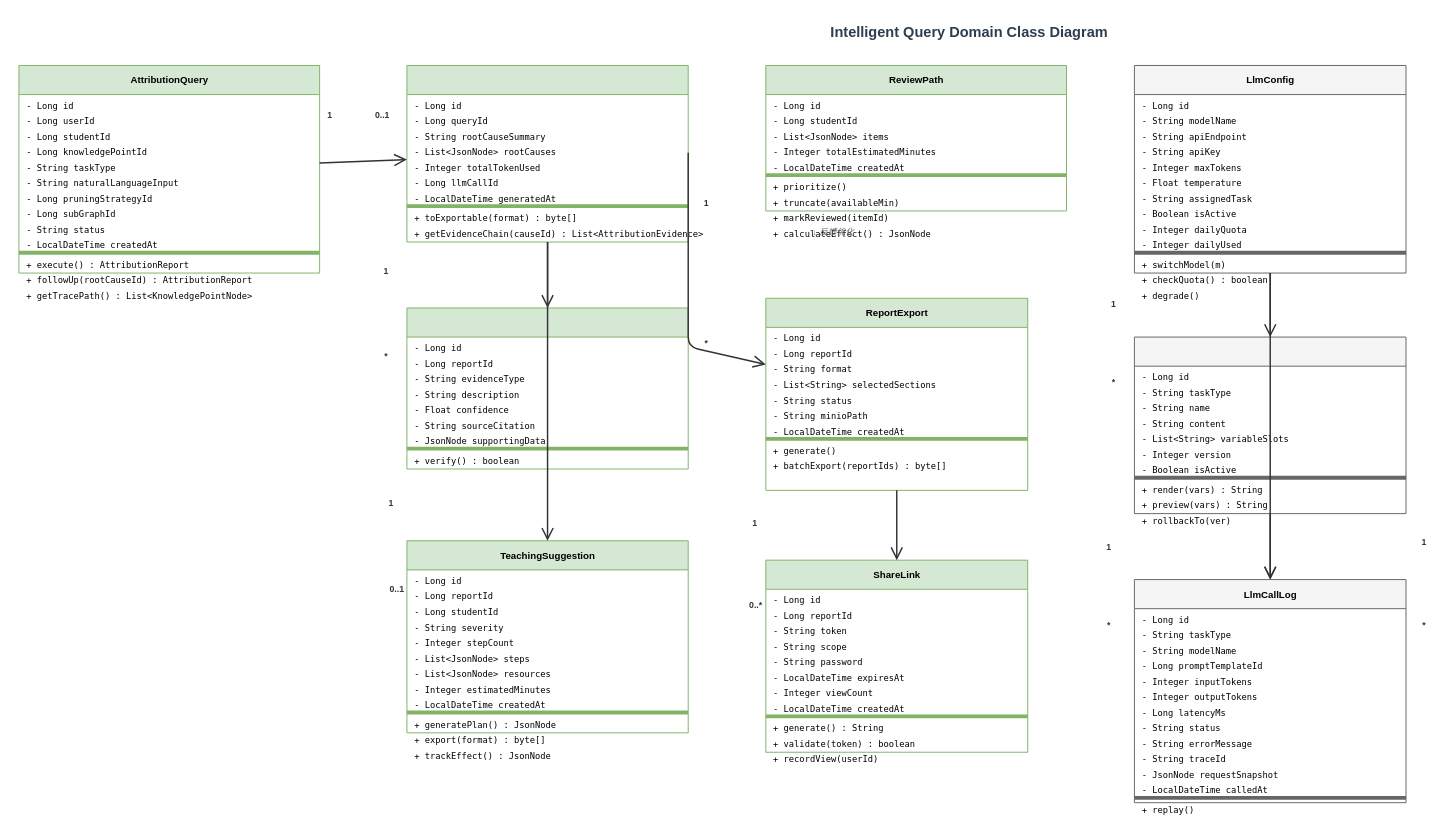
This 1449x831 diagram has some shape labels left out. Here are the shapes that lost their labels. From the top down, the box of each, then its label:
(406, 65, 688, 242): AttributionReport
(406, 307, 688, 469): AttributionEvidence
(1133, 336, 1406, 514): PromptTemplate
